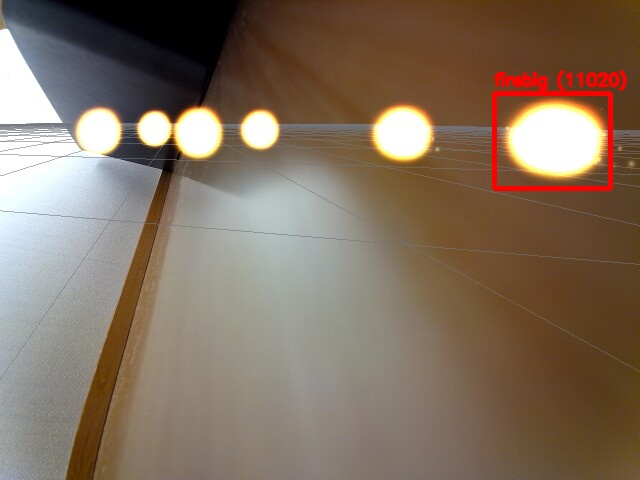firebig: (494, 93, 610, 188)
